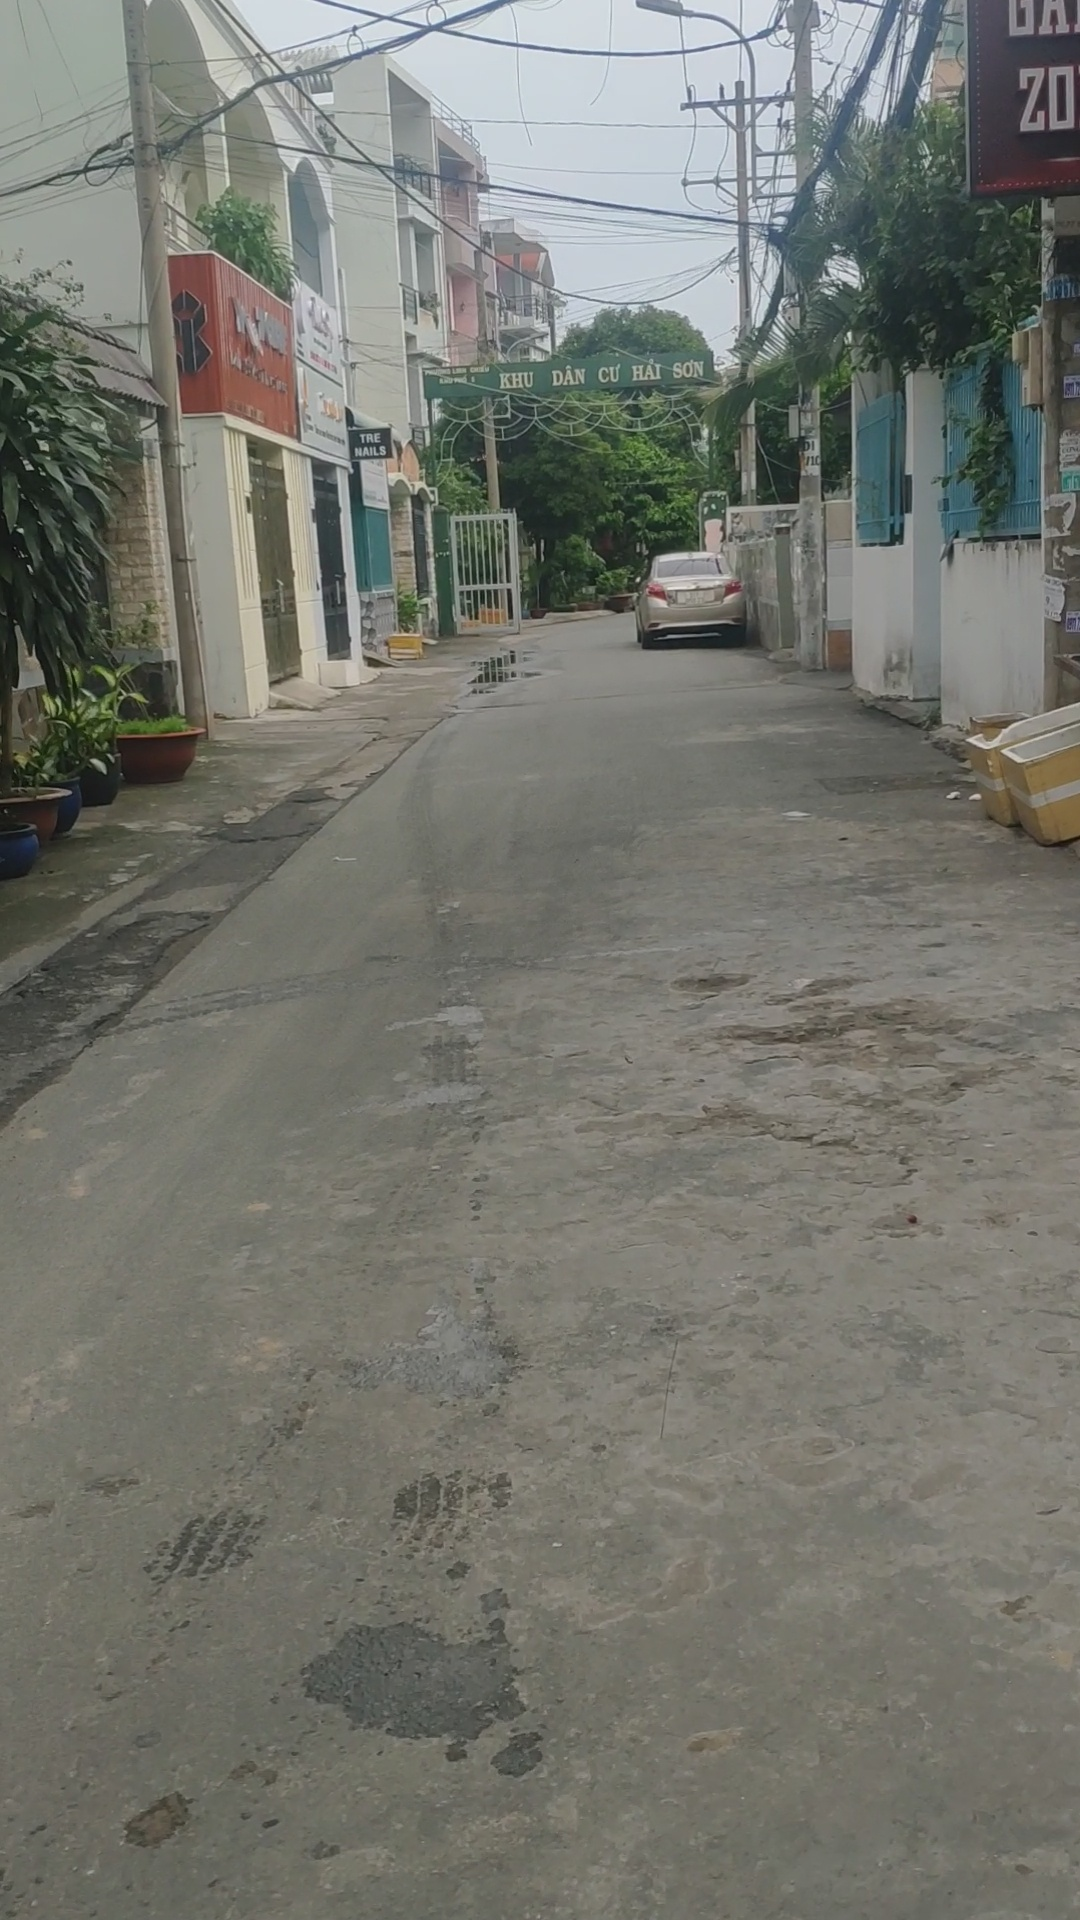hole: (278, 791, 347, 822)
